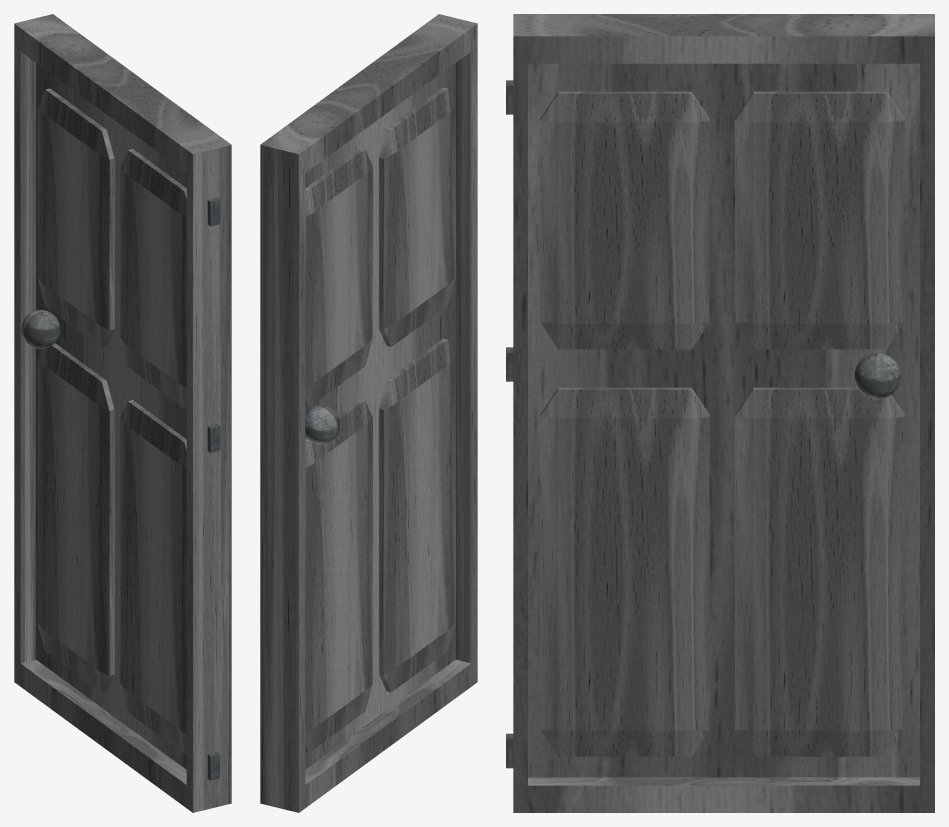
The model's file is WHITE WOODEN DOOR.glb.
3 views of the same model, side by side, from view 1: azimuth 30°, elevation 25°; view 2: azimuth 150°, elevation 25°; view 3: azimuth 270°, elevation 25° (orthographic). The views are drawn at different scales.
Visible parts, largest first — view 1: DOOR, SHEET METAL, VISAGRA.001; view 2: DOOR, SHEET METAL; view 3: DOOR, SHEET METAL, VISAGRA.001.
Boxes of the visible parts, box(x1,y1,x2,y2) form: DOOR: box(14, 14, 231, 812); SHEET METAL: box(21, 310, 60, 348); VISAGRA.001: box(207, 197, 220, 780); DOOR: box(260, 14, 477, 812); SHEET METAL: box(305, 405, 340, 444); DOOR: box(513, 14, 934, 812); SHEET METAL: box(854, 353, 900, 399); VISAGRA.001: box(506, 80, 513, 768).
Size of the model in its own units: 0.1749 by 1.6 by 0.8.
Materials: 4 (4 with a texture image).
